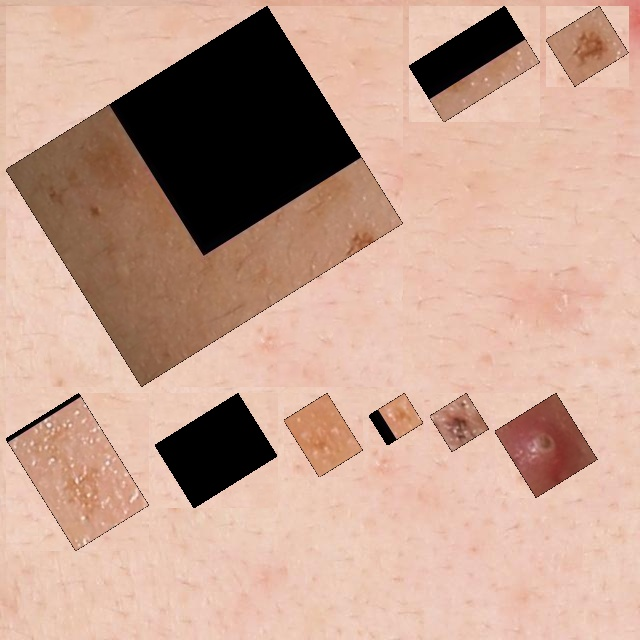melasma: (17, 17, 392, 375), (17, 404, 138, 539), (420, 17, 529, 111), (166, 404, 266, 497), (557, 17, 618, 75), (295, 404, 352, 466), (380, 404, 412, 434)
nevus: (441, 404, 478, 440)
pustule: (506, 404, 586, 486)
